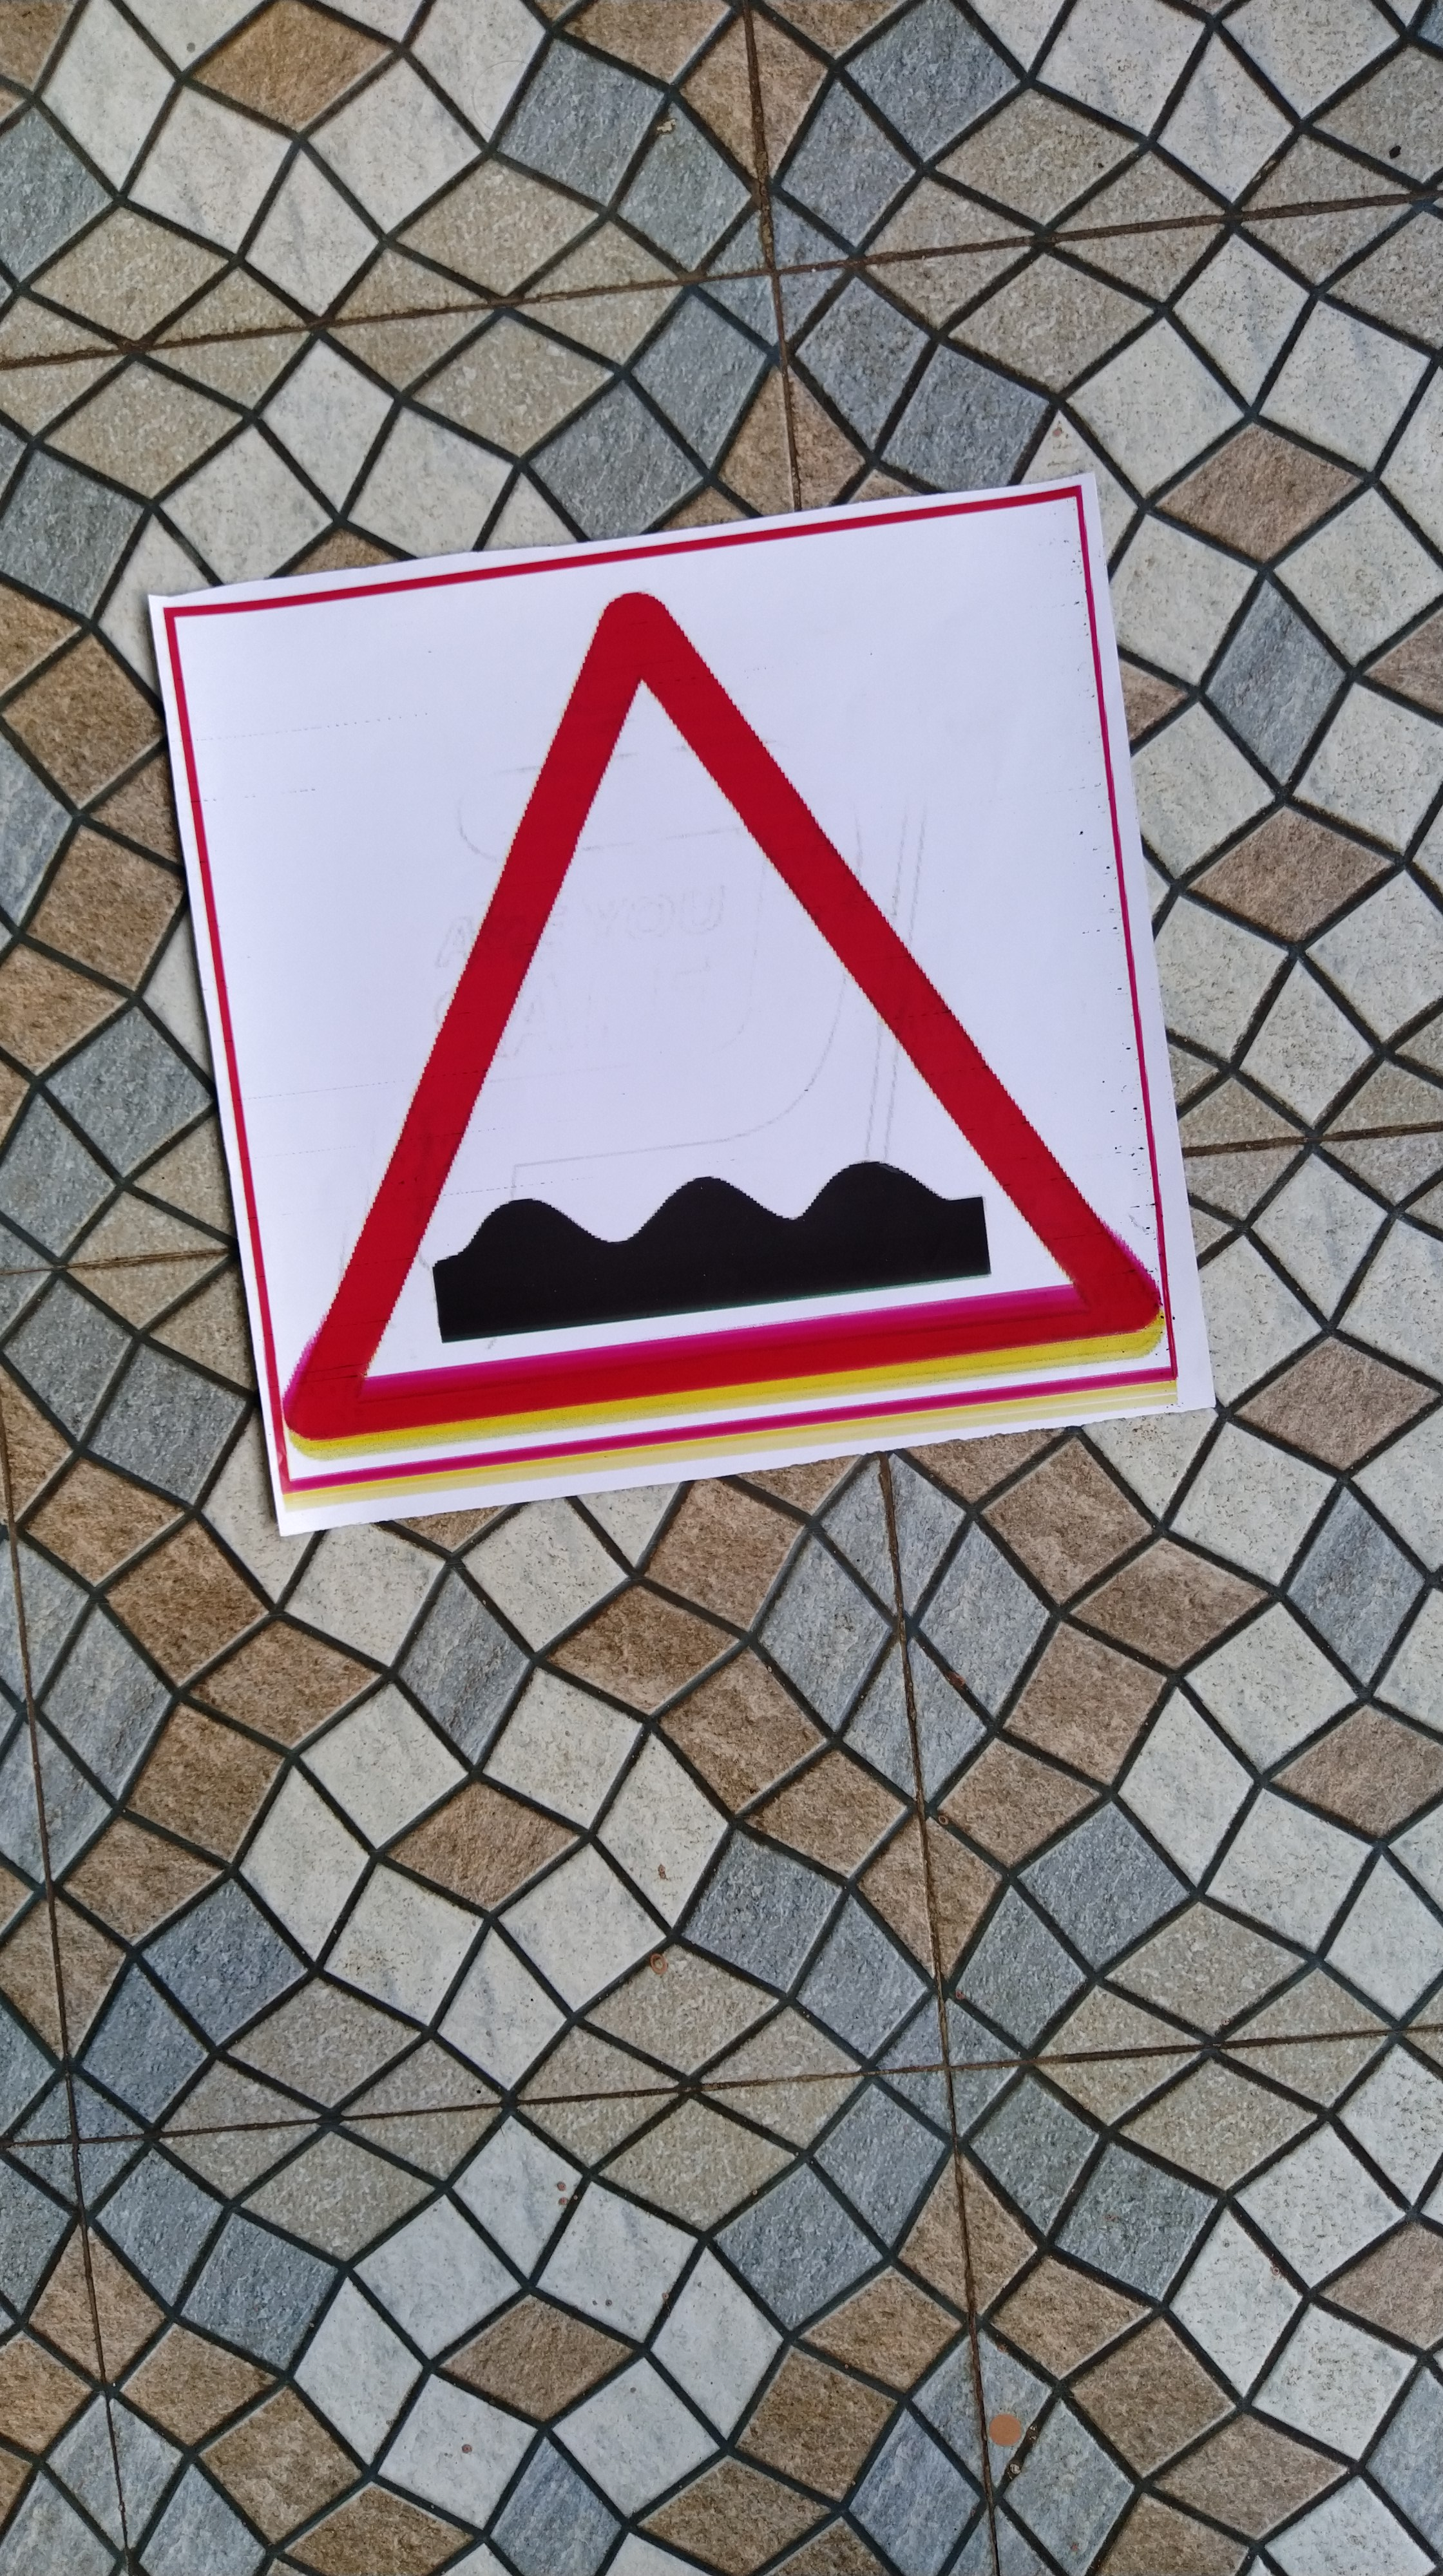speed breaker: (159, 598, 1239, 1415), (156, 594, 1215, 1399)
